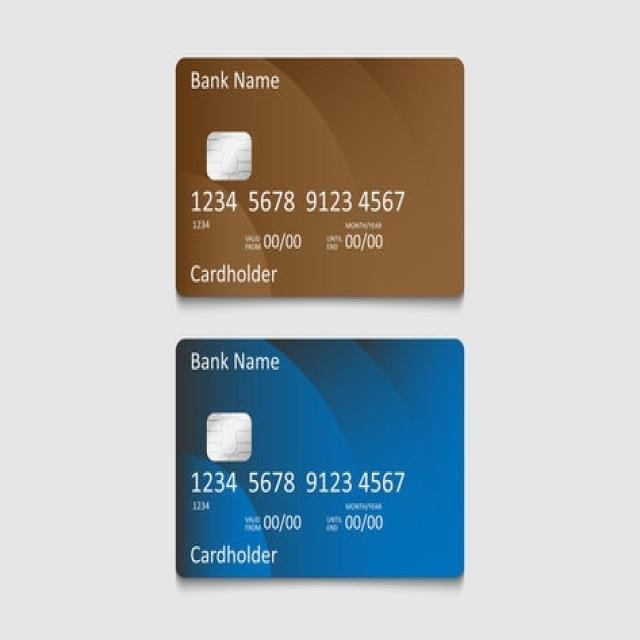payment_card: (174, 55, 465, 298), (174, 337, 465, 580)
